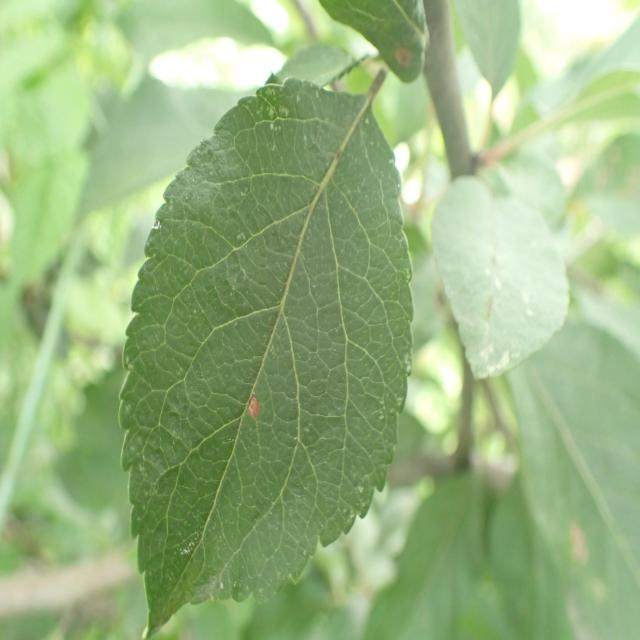Black Rot: (236, 376, 270, 446), (383, 34, 420, 86)
